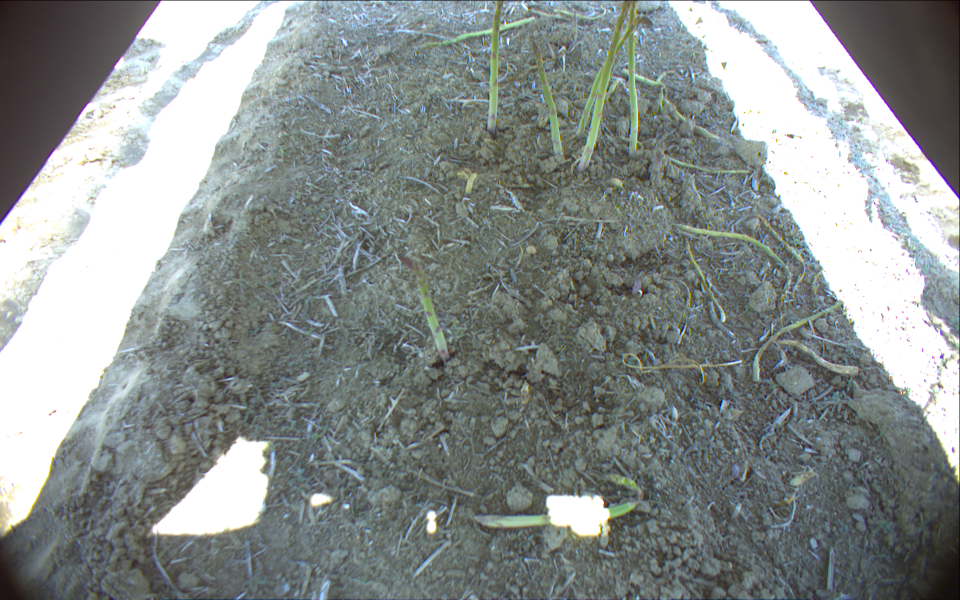aspa: (474, 472, 644, 531), (576, 1, 630, 174), (576, 15, 652, 136), (676, 226, 789, 293), (754, 301, 844, 385), (396, 252, 451, 365), (657, 70, 727, 144), (532, 41, 565, 160), (413, 17, 537, 48), (759, 216, 806, 294), (684, 239, 725, 322), (487, 1, 506, 135), (663, 153, 752, 175), (627, 1, 639, 153), (623, 68, 670, 98), (552, 5, 606, 22), (650, 150, 663, 180), (571, 12, 581, 45)
